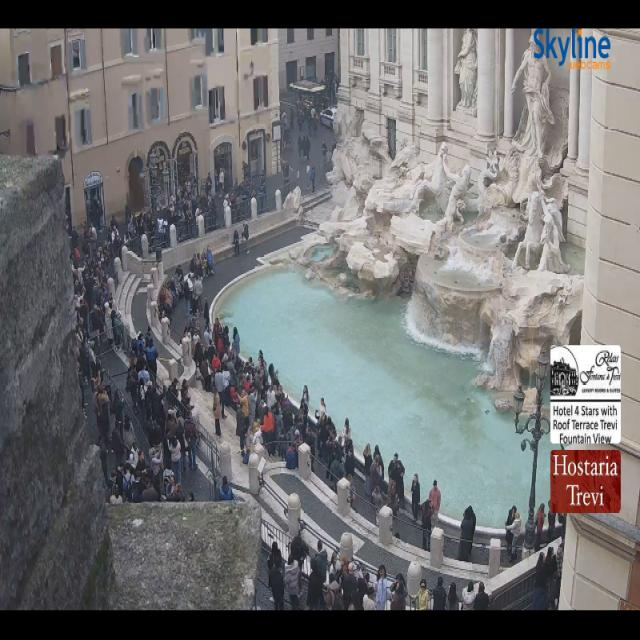person: (212, 338, 263, 421), (272, 386, 315, 464), (79, 277, 115, 346), (82, 259, 107, 345), (274, 387, 307, 452), (71, 247, 93, 338), (232, 374, 263, 434), (274, 404, 302, 462), (277, 386, 310, 433), (150, 412, 175, 474), (316, 410, 352, 453), (128, 356, 151, 420), (150, 410, 175, 468), (146, 197, 175, 246), (128, 347, 150, 411), (154, 379, 178, 437), (112, 391, 135, 449), (159, 196, 186, 245), (150, 422, 173, 477), (161, 269, 186, 319), (319, 425, 342, 479), (316, 417, 336, 479), (223, 328, 242, 393), (139, 370, 163, 420), (329, 553, 350, 610), (207, 319, 230, 371), (108, 462, 135, 501), (167, 379, 192, 420), (95, 381, 110, 444), (458, 506, 475, 561), (263, 365, 283, 411), (550, 542, 563, 610), (131, 328, 151, 372), (264, 365, 283, 411), (79, 343, 91, 415), (256, 351, 275, 396), (323, 419, 337, 479), (303, 99, 327, 134), (194, 342, 211, 391), (122, 445, 143, 484), (306, 96, 328, 133), (544, 546, 557, 608), (533, 554, 547, 610), (307, 564, 324, 610), (76, 293, 88, 358), (269, 558, 284, 610), (285, 555, 299, 610), (161, 278, 179, 320), (124, 444, 141, 488), (352, 566, 369, 610), (506, 510, 520, 562), (105, 294, 119, 346), (170, 188, 191, 222), (268, 364, 284, 408), (239, 166, 255, 210), (316, 74, 335, 111), (245, 422, 263, 460), (157, 278, 175, 316), (316, 412, 329, 464), (342, 563, 357, 608), (325, 575, 344, 610), (184, 419, 197, 470), (355, 566, 370, 610), (328, 551, 348, 584), (261, 406, 274, 456), (312, 541, 327, 584), (184, 300, 200, 340), (149, 385, 165, 424), (255, 351, 268, 399), (203, 170, 219, 209), (156, 206, 172, 245), (505, 506, 517, 557), (92, 198, 105, 245), (362, 443, 373, 498), (215, 368, 227, 418), (373, 445, 386, 491), (370, 456, 383, 501), (184, 193, 199, 232), (90, 199, 100, 257), (236, 405, 247, 456), (323, 73, 339, 108), (176, 189, 191, 226), (391, 573, 406, 610), (176, 417, 186, 471), (150, 438, 163, 479), (304, 425, 315, 473), (169, 438, 181, 482), (181, 254, 199, 283), (429, 480, 440, 526), (146, 339, 158, 381), (422, 500, 432, 550), (534, 503, 544, 552), (394, 459, 404, 508), (330, 457, 344, 492), (239, 387, 250, 431), (376, 566, 387, 610), (298, 101, 312, 135), (91, 306, 103, 345), (122, 465, 135, 501), (433, 577, 447, 610), (108, 216, 120, 254), (387, 480, 399, 518), (163, 430, 174, 470), (184, 272, 194, 315), (546, 500, 556, 543), (192, 275, 203, 314), (474, 582, 489, 610), (112, 311, 123, 349), (329, 551, 342, 583), (372, 445, 384, 479), (213, 386, 221, 437), (322, 75, 334, 109), (142, 478, 159, 502), (112, 310, 123, 347), (268, 541, 282, 570), (462, 581, 476, 610), (344, 448, 355, 484), (372, 487, 383, 523), (445, 582, 459, 610), (167, 378, 180, 407), (296, 100, 307, 134), (336, 554, 348, 585), (105, 469, 121, 492), (332, 428, 343, 461), (329, 553, 341, 583), (416, 580, 428, 610), (220, 476, 234, 501), (248, 386, 257, 424), (188, 254, 199, 284), (299, 396, 309, 429), (412, 474, 419, 521), (105, 306, 113, 347), (285, 443, 297, 470), (200, 191, 214, 214), (196, 251, 207, 280), (180, 379, 191, 408), (165, 409, 176, 437), (258, 174, 266, 212), (136, 450, 149, 473), (133, 214, 146, 236), (343, 418, 352, 449), (82, 228, 91, 259), (194, 343, 203, 374), (363, 587, 375, 610), (468, 506, 476, 540), (168, 483, 183, 501), (558, 513, 567, 541), (110, 485, 122, 505), (125, 205, 133, 235), (556, 538, 563, 572), (301, 385, 310, 411), (206, 246, 214, 275), (142, 211, 152, 232), (204, 319, 211, 349), (215, 167, 223, 193), (232, 328, 239, 356), (125, 425, 133, 449), (267, 385, 275, 409), (319, 397, 327, 420), (243, 223, 249, 253), (174, 265, 184, 283), (233, 229, 239, 254), (305, 136, 311, 161), (72, 227, 79, 248), (312, 113, 318, 137), (334, 74, 339, 102), (283, 161, 289, 184), (219, 167, 224, 193), (298, 108, 303, 134), (310, 166, 315, 192), (321, 141, 327, 162), (298, 135, 303, 160), (205, 172, 211, 192), (289, 108, 294, 130), (281, 110, 287, 128), (110, 215, 116, 231), (243, 162, 248, 181), (188, 492, 195, 502), (311, 107, 315, 120), (299, 580, 301, 597)
